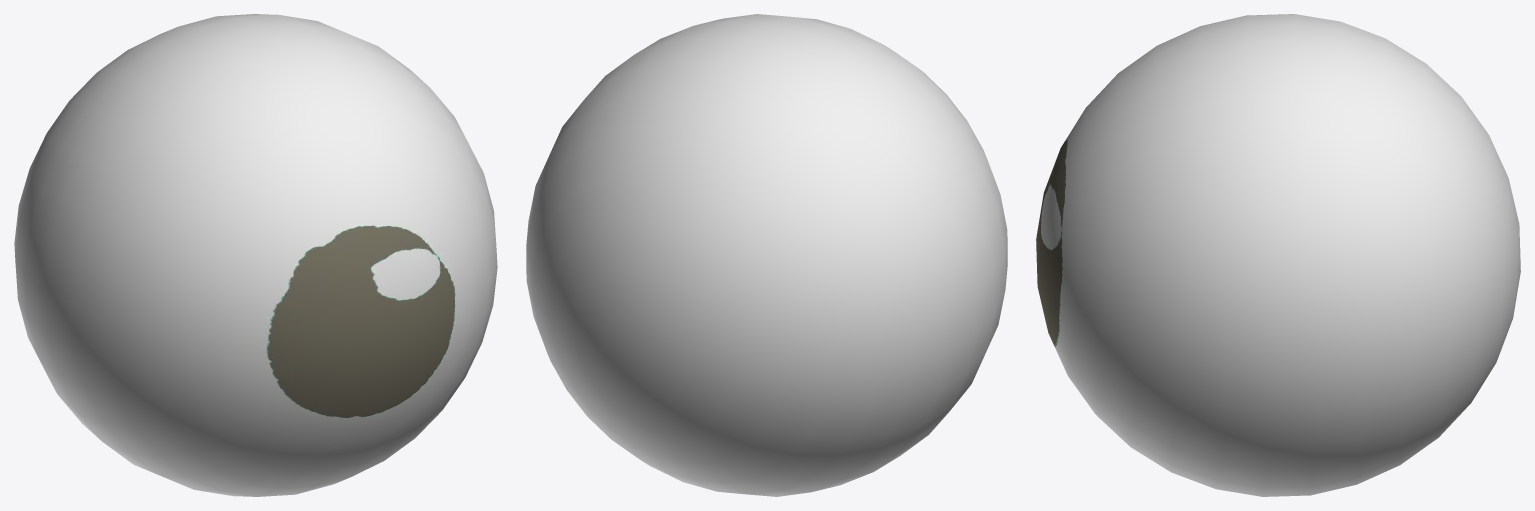
The model's file is MobMiniV4-transformed.glb.
3 views of the same model, side by side, from view 1: azimuth 30°, elevation 25°; view 2: azimuth 150°, elevation 25°; view 3: azimuth 270°, elevation 25° (orthographic).
Parts seen in each view (by area): view 1: eye; view 2: eye; view 3: eye.
Part boxes in pixels (x1,y1,x2,y2): eye: (14,14,497,496); eye: (526,14,1007,496); eye: (1036,14,1520,496).
Size of the model in its own units: 0.5373 by 0.5362 by 0.5373.
Materials: 2 (2 with a texture image).
